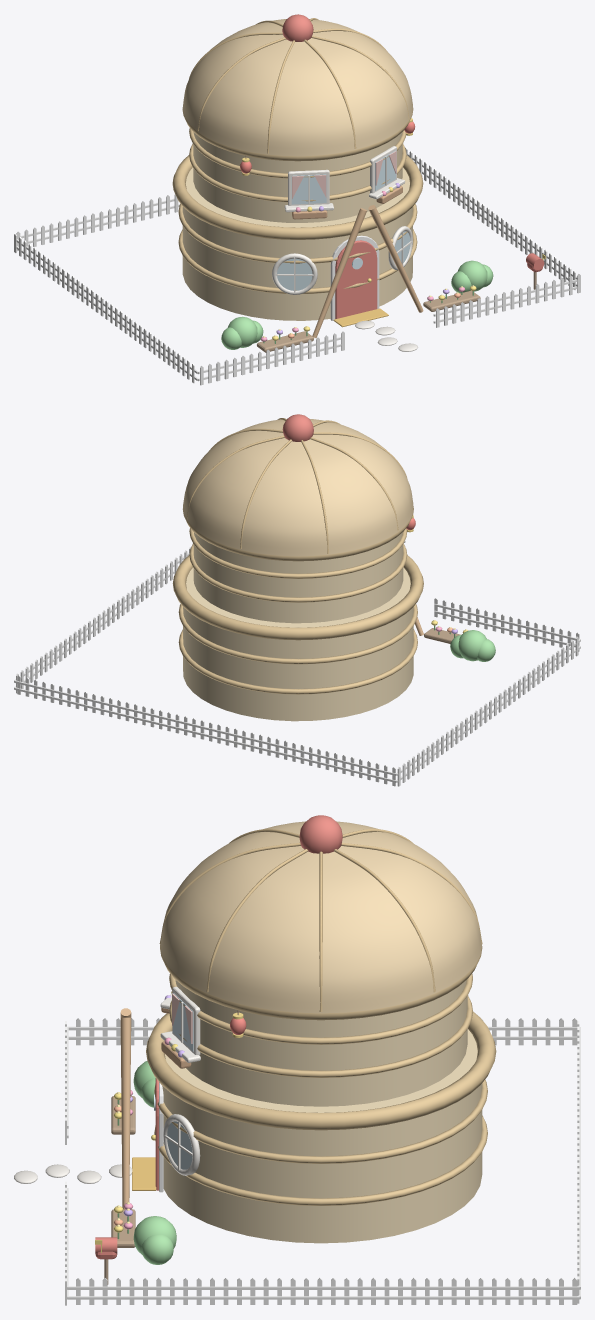
Rendered from building_dumpling_L08.glb.
The picture shows the model from 3 angles, top to bottom: view 1: azimuth 30°, elevation 25°; view 2: azimuth 150°, elevation 25°; view 3: azimuth 270°, elevation 25°; orthographic projection. The views are drawn at different scales.
Visible parts, largest first — view 1: Body, dumpling_L8; view 2: Body, dumpling_L8; view 3: Body, dumpling_L8.
Boxes of the visible parts, left/top/right/bottom form: Body: left=172, top=14, right=423, bottom=338; dumpling_L8: left=14, top=147, right=580, bottom=385; Body: left=172, top=414, right=423, bottom=721; dumpling_L8: left=14, top=547, right=580, bottom=786; Body: left=120, top=815, right=496, bottom=1243; dumpling_L8: left=14, top=1018, right=580, bottom=1305.
Size of the model in its own units: 25.35 by 16.38 by 23.24.
